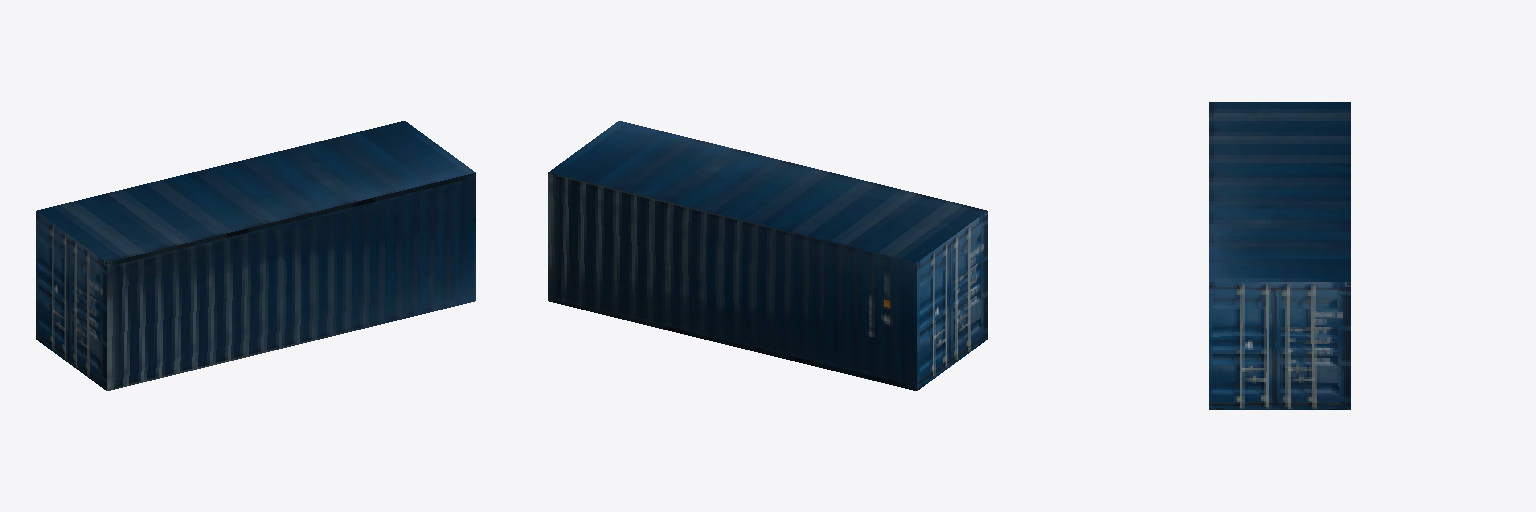
3 views of the same model, side by side, from view 1: azimuth 30°, elevation 25°; view 2: azimuth 150°, elevation 25°; view 3: azimuth 270°, elevation 25° (orthographic).
Parts seen in each view (by area): view 1: Cube; view 2: Cube; view 3: Cube.
Boxes of the visible parts, <box> form: Cube: <box>36,121,475,390</box>; Cube: <box>548,121,987,390</box>; Cube: <box>1209,102,1350,409</box>.
Size of the model in its own units: 6 by 2 by 2.
1 materials, 1 textured.